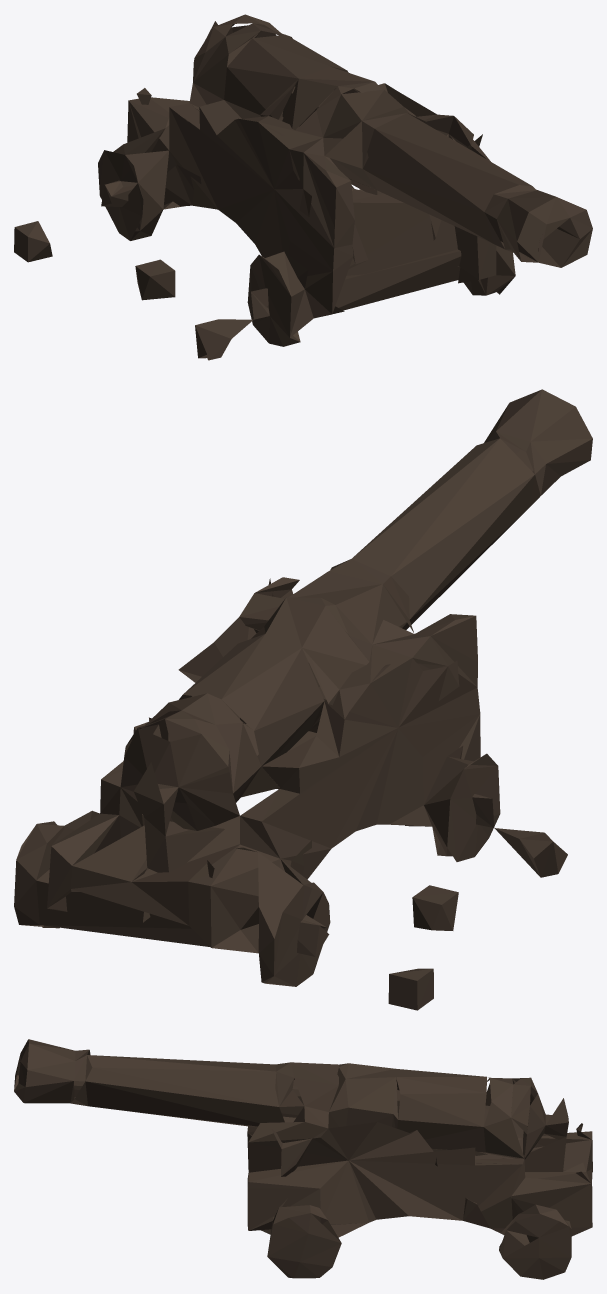
The model's file is cannon-lod1.glb.
3 renders of one model, top to bottom at view 1: azimuth 30°, elevation 25°; view 2: azimuth 150°, elevation 25°; view 3: azimuth 270°, elevation 25°, orthographic. The views are drawn at different scales.
Size of the model in its own units: 1.2 by 0.8586 by 2.3.
